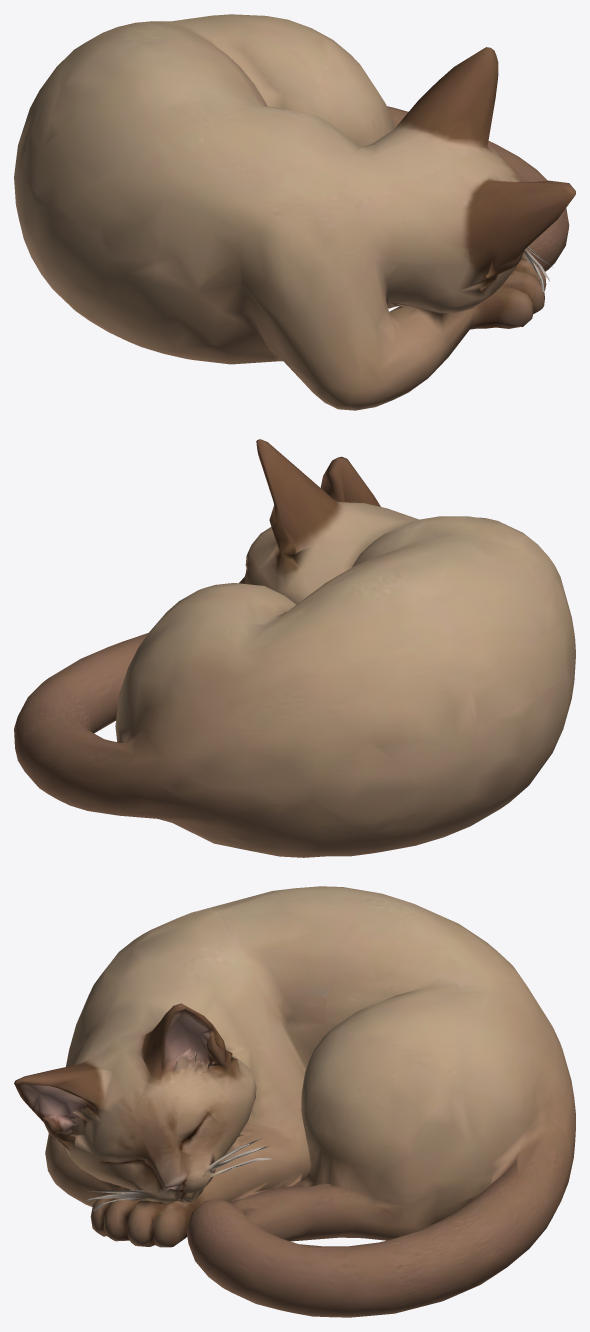
Rendered from cat-sleep.glb.
3 views of the same model, one above another, from view 1: azimuth 30°, elevation 25°; view 2: azimuth 150°, elevation 25°; view 3: azimuth 270°, elevation 25° (orthographic). The views are drawn at different scales.
Parts seen in each view (by area): view 1: tripo_node_4269d2dd-adf6-4d24-afdf-0679bcb70a61; view 2: tripo_node_4269d2dd-adf6-4d24-afdf-0679bcb70a61; view 3: tripo_node_4269d2dd-adf6-4d24-afdf-0679bcb70a61.
Part boxes in pixels (left/top/right/bottom): tripo_node_4269d2dd-adf6-4d24-afdf-0679bcb70a61: left=14, top=14, right=575, bottom=410; tripo_node_4269d2dd-adf6-4d24-afdf-0679bcb70a61: left=14, top=439, right=575, bottom=857; tripo_node_4269d2dd-adf6-4d24-afdf-0679bcb70a61: left=14, top=886, right=575, bottom=1317.
Size of the model in its own units: 0.9852 by 0.5123 by 0.9989.
Materials: 1 (1 with a texture image).
